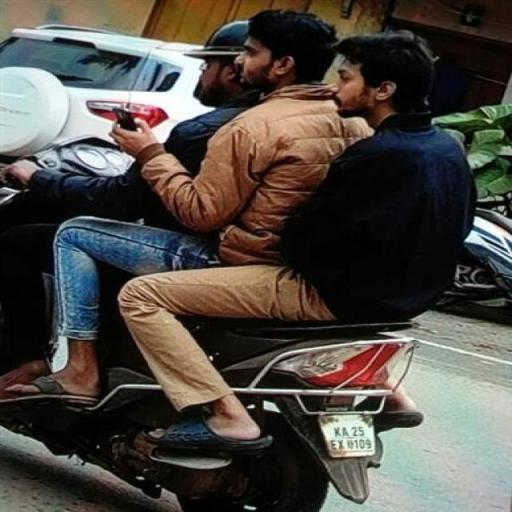tripple riding: (12, 6, 502, 296)
